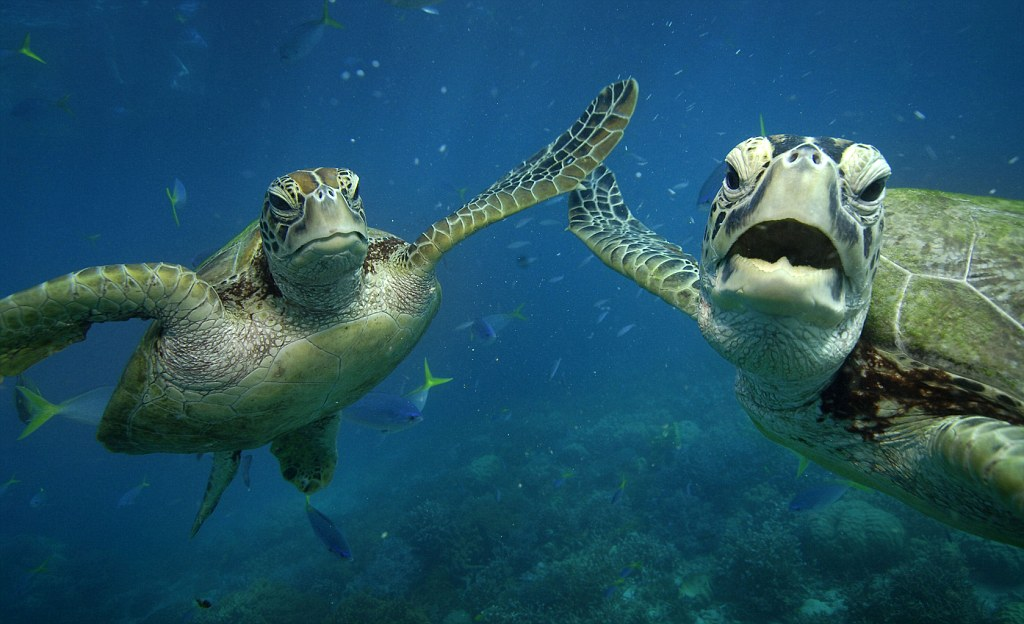fish: (266, 1, 344, 66), (339, 392, 423, 430)
trutle: (1, 74, 643, 460), (571, 101, 1024, 523)
